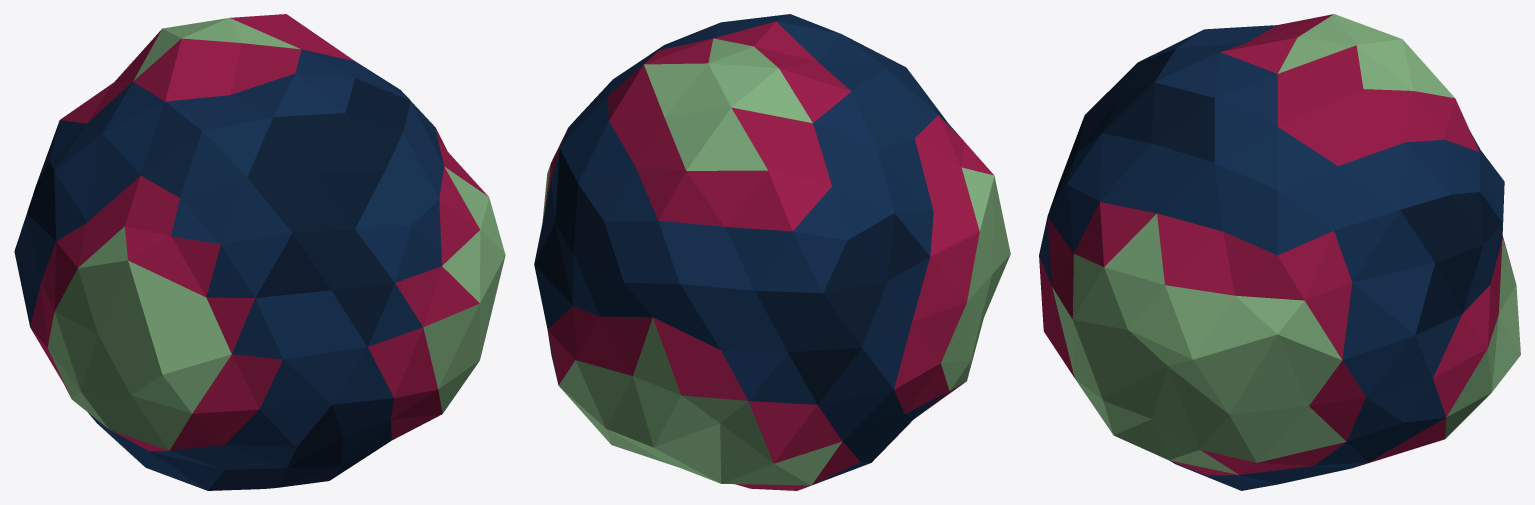
File: planet1.fbx
The picture shows the model from 3 angles, left to right: view 1: azimuth 30°, elevation 25°; view 2: azimuth 150°, elevation 25°; view 3: azimuth 270°, elevation 25°; orthographic projection. The views are drawn at different scales.
Parts seen in each view (by area): view 1: Icosphere.003; view 2: Icosphere.003; view 3: Icosphere.003.
Boxes of the visible parts, left/top/right/bottom form: Icosphere.003: left=14, top=14, right=505, bottom=490; Icosphere.003: left=534, top=14, right=1010, bottom=490; Icosphere.003: left=1039, top=14, right=1520, bottom=490.
Size of the model in its own units: 114 by 111 by 112.
